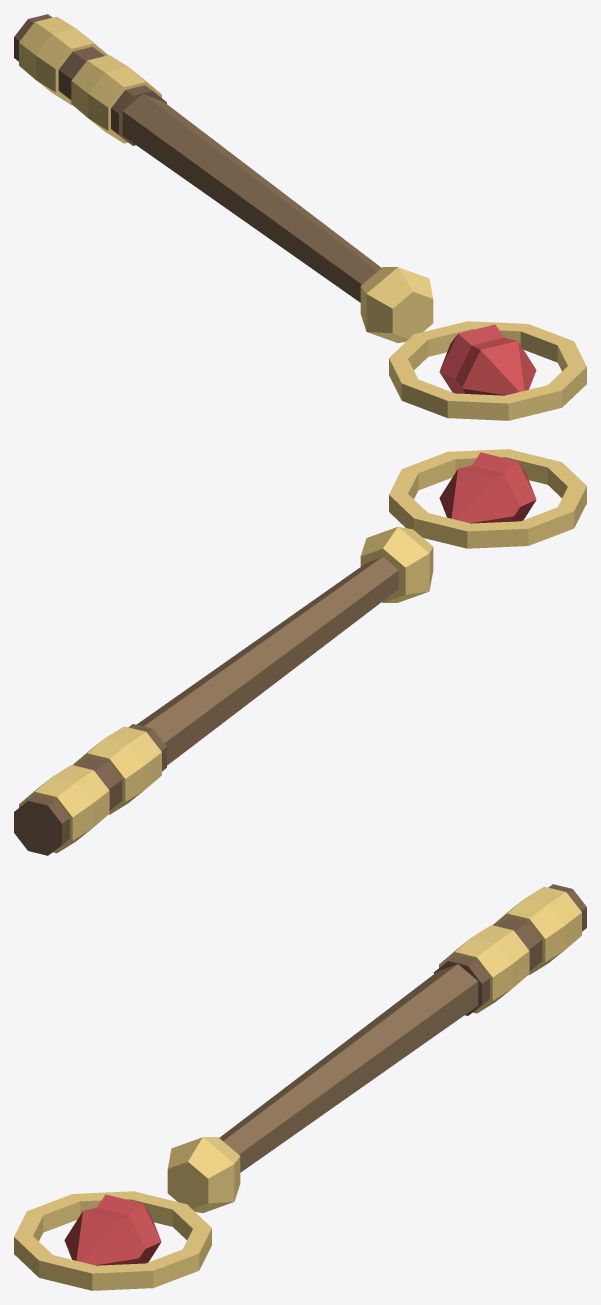
Rendered from arcwand.glb.
3 renders of one model, top to bottom at view 1: azimuth 30°, elevation 25°; view 2: azimuth 150°, elevation 25°; view 3: azimuth 330°, elevation 25°, orthographic.
Visible parts, largest first — view 1: arcwand; view 2: arcwand; view 3: arcwand.
Part boxes in pixels (x1=…): arcwand: x1=14, y1=14, x2=586, y2=420; arcwand: x1=14, y1=449, x2=586, y2=855; arcwand: x1=14, y1=884, x2=586, y2=1290.
Bounding box in the file's own units: 0.1327 × 0.056 × 0.6631.
